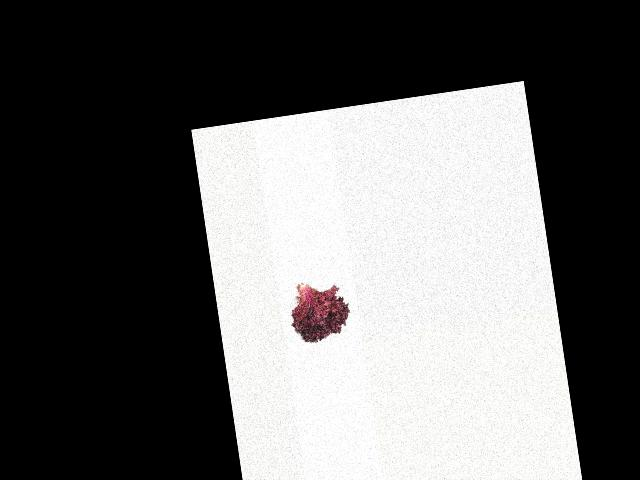lettuce: (287, 270, 355, 348)
